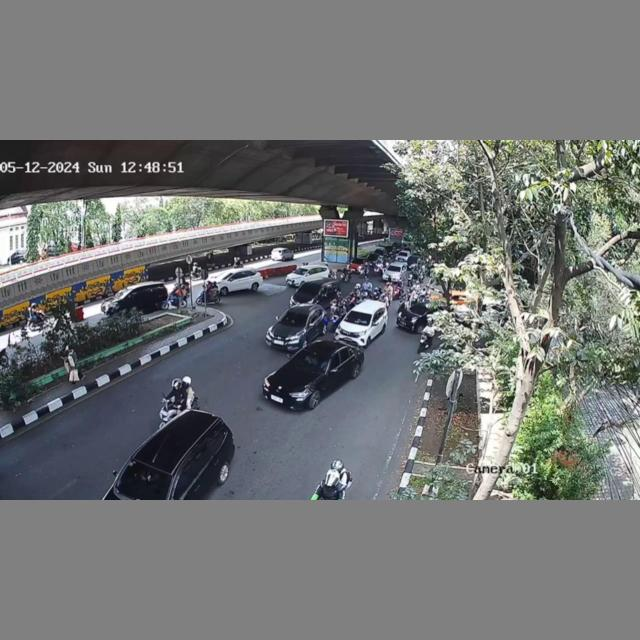windshield: (292, 349, 330, 375), (344, 307, 373, 327), (276, 311, 310, 327)
